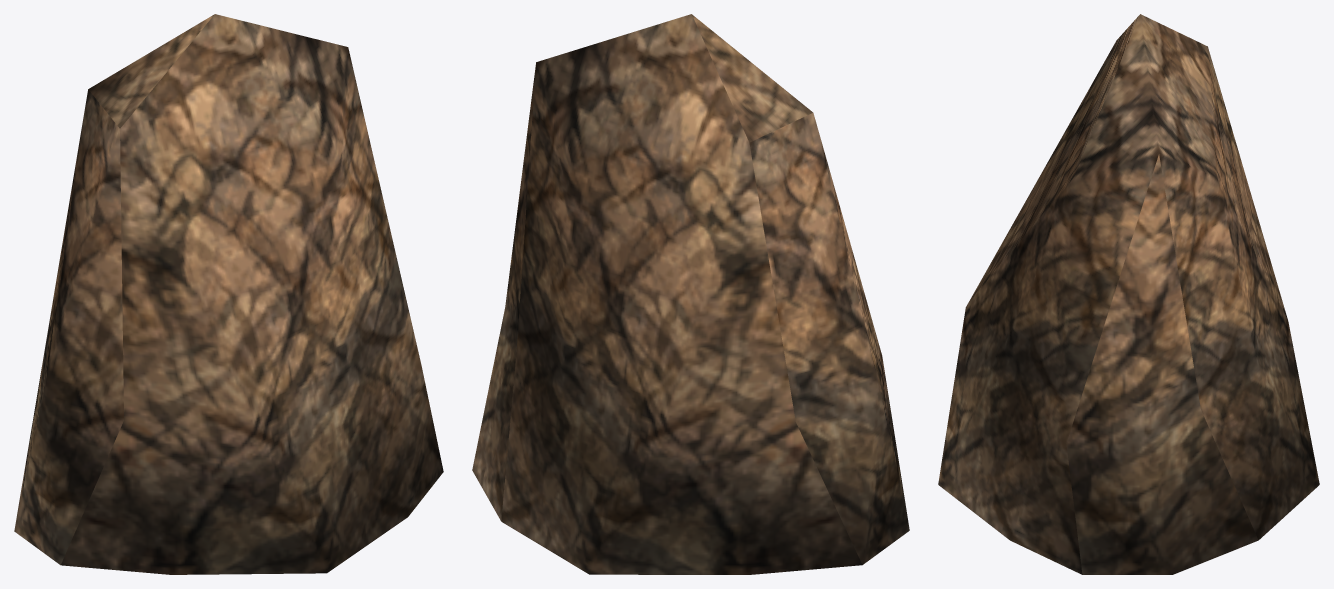
File: RockWall0.fbx
3 renders of one model, left to right at view 1: azimuth 30°, elevation 25°; view 2: azimuth 150°, elevation 25°; view 3: azimuth 270°, elevation 25°, orthographic. The views are drawn at different scales.
Visible parts, largest first — view 1: Icosphere.001; view 2: Icosphere.001; view 3: Icosphere.001.
Part boxes in pixels (x1,y1,x2,y2): Icosphere.001: [14, 14, 443, 574]; Icosphere.001: [472, 14, 909, 574]; Icosphere.001: [938, 14, 1319, 574].
Bounding box in the file's own units: 190 × 230 × 170.
